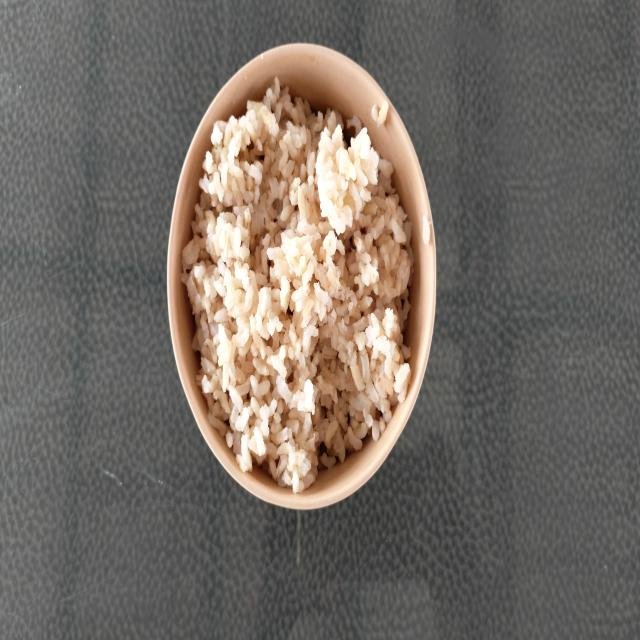brown-rice: (181, 80, 414, 492)
